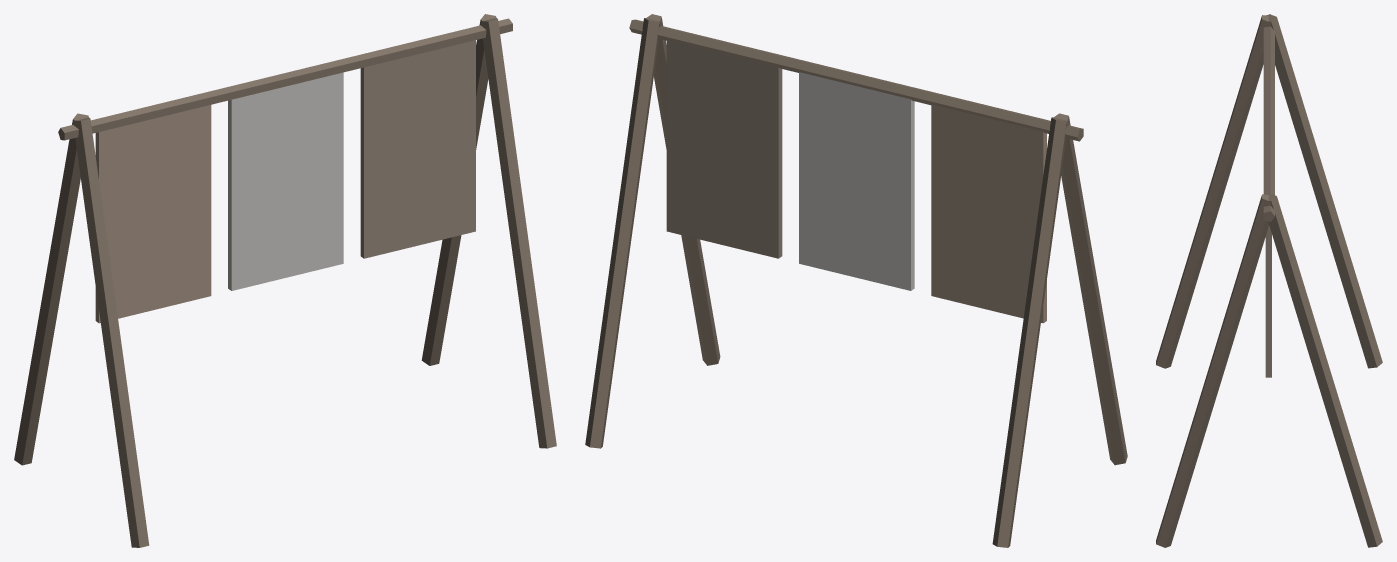
The model's file is drying_rack.gltf.
3 views of the same model, side by side, from view 1: azimuth 30°, elevation 25°; view 2: azimuth 150°, elevation 25°; view 3: azimuth 270°, elevation 25° (orthographic). The views are drawn at different scales.
Visible parts, largest first — view 1: Body; view 2: Body; view 3: Body.
Part boxes in pixels (box(x1,y1,x2,y2)): Body: box(14, 14, 556, 547); Body: box(585, 14, 1127, 547); Body: box(1156, 14, 1382, 547).
Size of the model in its own units: 2.2 by 1.82 by 1.07.
